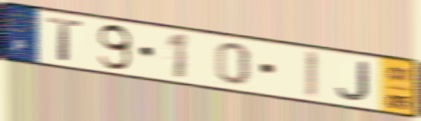0: (213, 40, 256, 88)
1: (162, 32, 191, 81)
9: (95, 23, 134, 72)
I: (303, 48, 321, 101)
J: (334, 60, 372, 103)
T: (45, 15, 86, 64)
